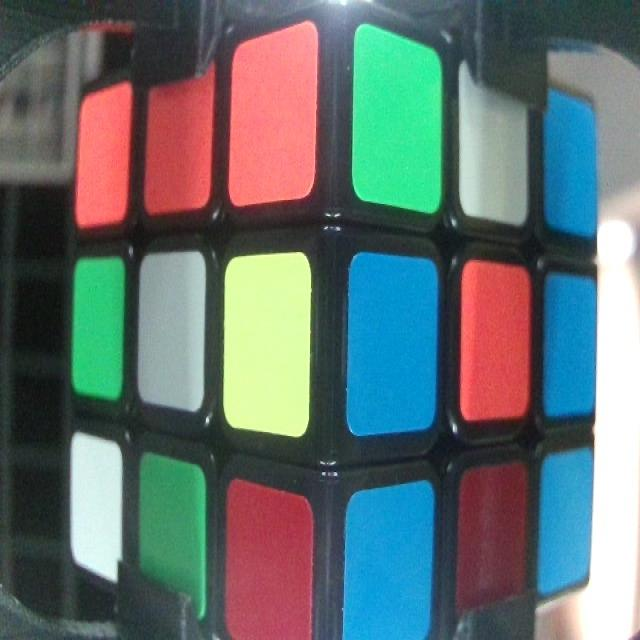b: (349, 255, 434, 439), (349, 490, 429, 636), (545, 91, 596, 235), (545, 276, 595, 411), (541, 456, 589, 586)
g: (354, 27, 441, 215), (141, 457, 204, 618), (74, 259, 122, 399)
o: (232, 32, 312, 197), (463, 262, 532, 416), (148, 67, 208, 201), (78, 90, 128, 227)
r: (225, 484, 313, 640), (458, 468, 520, 611)
w: (460, 64, 530, 226), (138, 255, 204, 404), (69, 432, 121, 582)
y: (229, 254, 310, 439)
